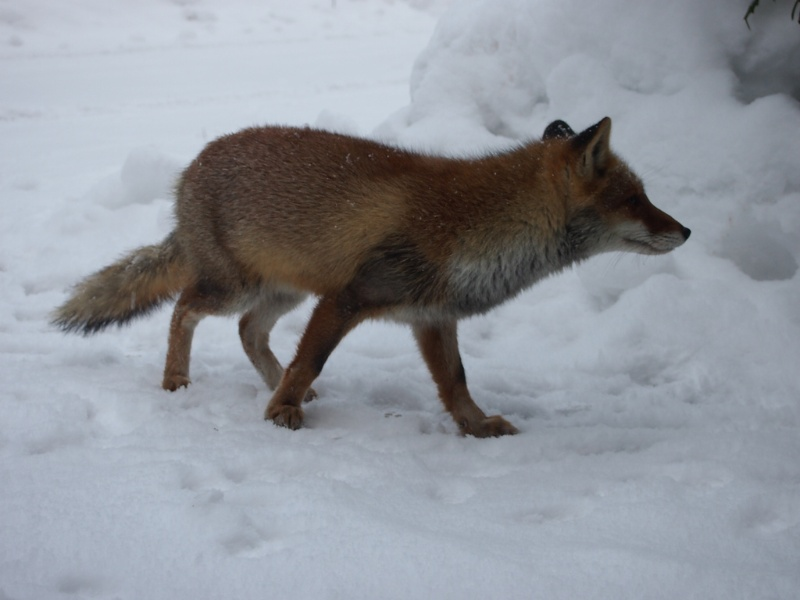fox: (47, 102, 697, 448)
